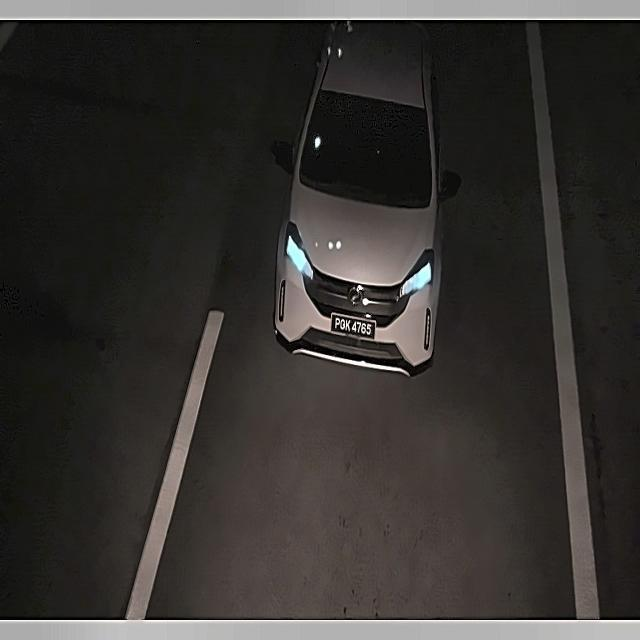car: (325, 302, 380, 343)
